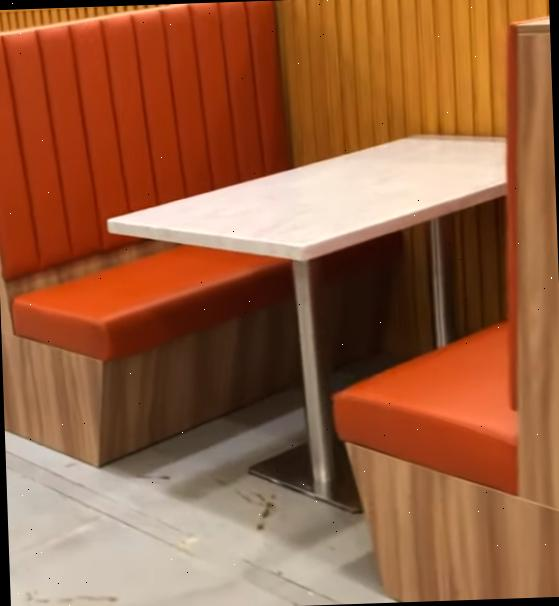Clean Table: (18, 102, 522, 314)
